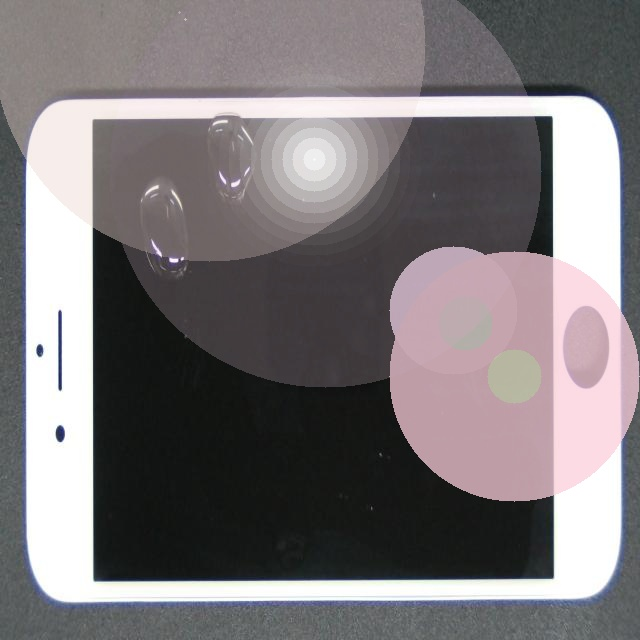oil: (118, 12, 329, 201), (117, 144, 277, 314)
